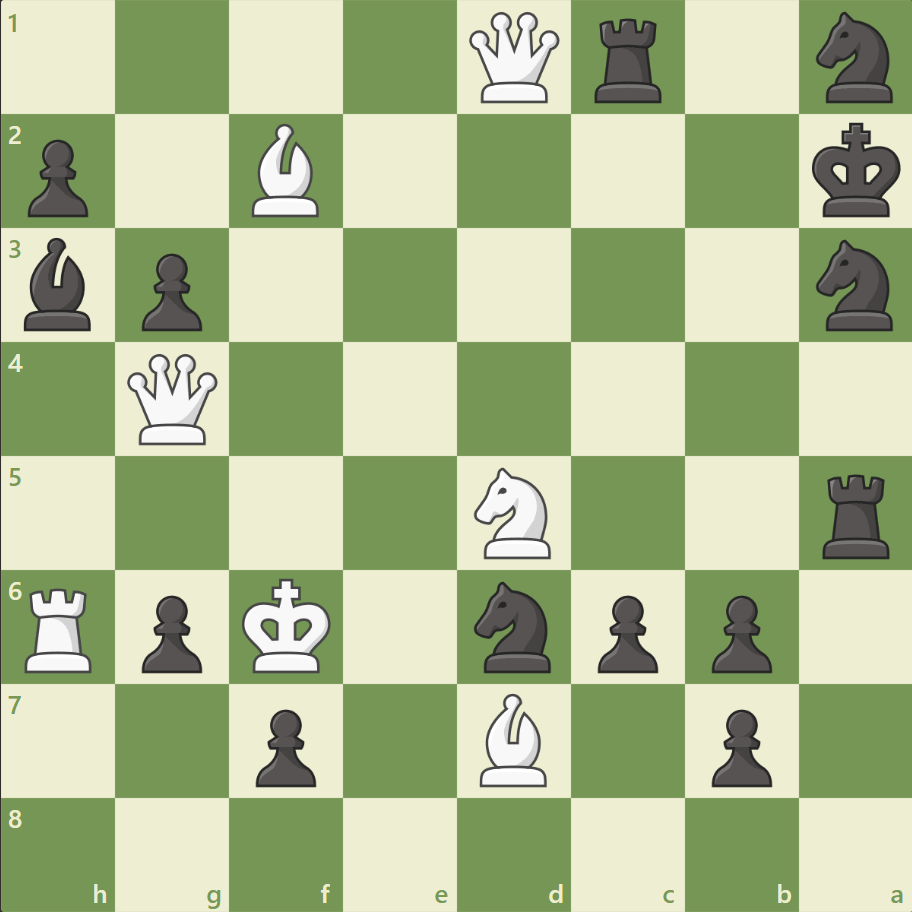B: (471, 687, 555, 790), (244, 120, 328, 222)
K: (238, 571, 338, 679)
N: (465, 461, 562, 564)
Q: (124, 349, 223, 449), (464, 9, 563, 108)
R: (19, 579, 102, 676)
b: (17, 233, 101, 336)
k: (806, 117, 906, 225)
n: (806, 234, 903, 337), (806, 7, 903, 110), (465, 575, 562, 677)
p: (701, 700, 776, 791), (247, 700, 322, 791), (701, 586, 776, 677), (133, 586, 208, 677), (133, 246, 208, 337), (20, 132, 95, 223), (588, 586, 662, 677)
r: (814, 466, 897, 563), (587, 12, 670, 109)
